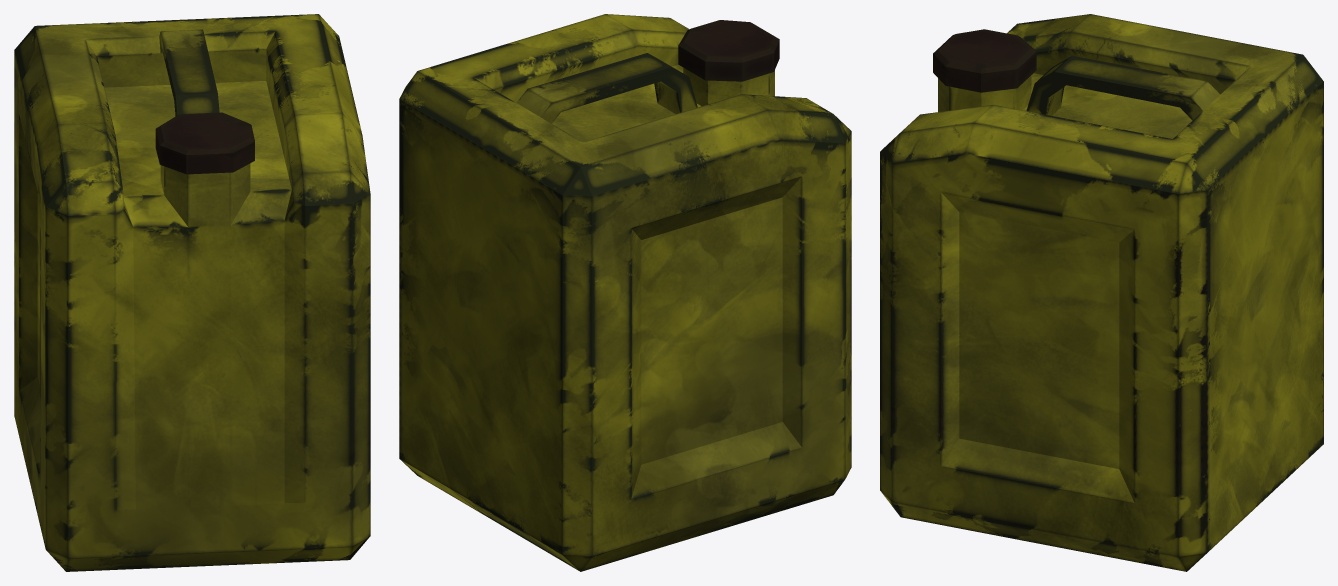
Rendered from Canister.fbx.
3 renders of one model, left to right at view 1: azimuth 30°, elevation 25°; view 2: azimuth 150°, elevation 25°; view 3: azimuth 270°, elevation 25°, orthographic.
Visible parts, largest first — view 1: Canister; view 2: Canister; view 3: Canister.
Boxes of the visible parts, bbox=[...] form: Canister: bbox=[14, 14, 370, 571]; Canister: bbox=[399, 14, 851, 571]; Canister: bbox=[880, 14, 1323, 571].
Size of the model in its own units: 28.62 by 31.25 by 29.96.
